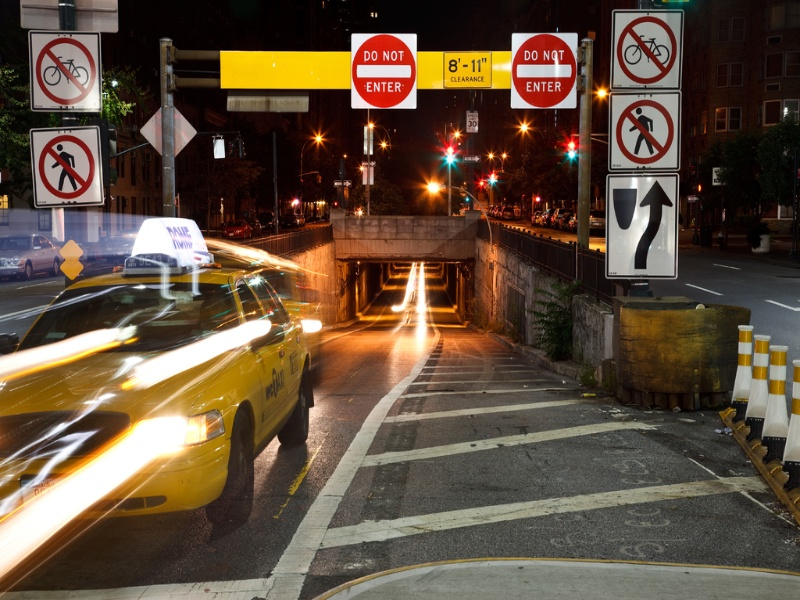no_cycle: (28, 29, 101, 110), (616, 13, 682, 83)
no_entry: (347, 29, 421, 111), (509, 32, 580, 110)
pedestrian_crossing_red: (32, 129, 100, 202), (613, 93, 679, 168)
